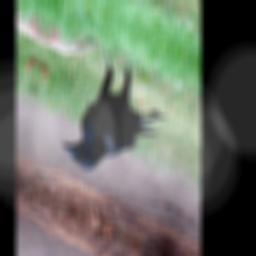Crow: (58, 34, 174, 205)
